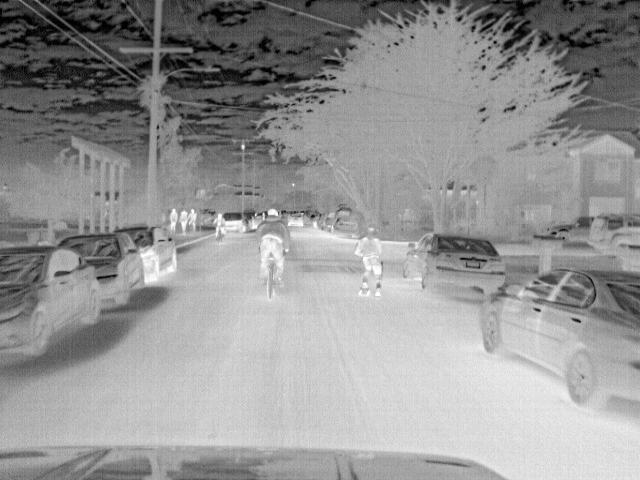car: (480, 268, 638, 414), (3, 242, 102, 364), (399, 230, 505, 304), (58, 232, 145, 310), (113, 223, 177, 285), (588, 212, 639, 256), (531, 214, 595, 244), (332, 215, 363, 237), (222, 211, 246, 235), (323, 211, 345, 231), (285, 210, 304, 227), (242, 209, 256, 230)
person: (259, 208, 290, 284), (353, 226, 384, 295), (168, 206, 182, 234), (212, 211, 225, 238), (189, 207, 201, 234), (179, 207, 191, 234)
